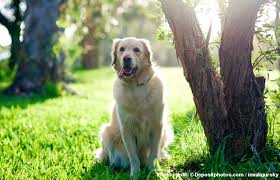dog_sitting: (94, 37, 174, 177)
